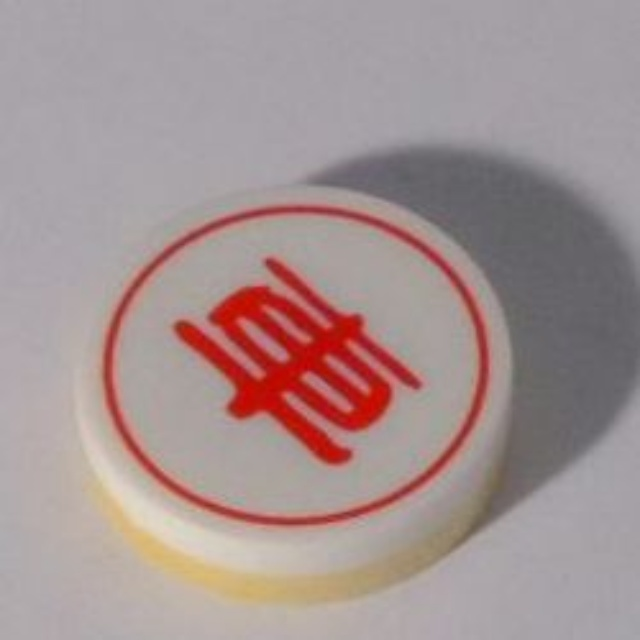red_xe: (53, 177, 531, 615)
